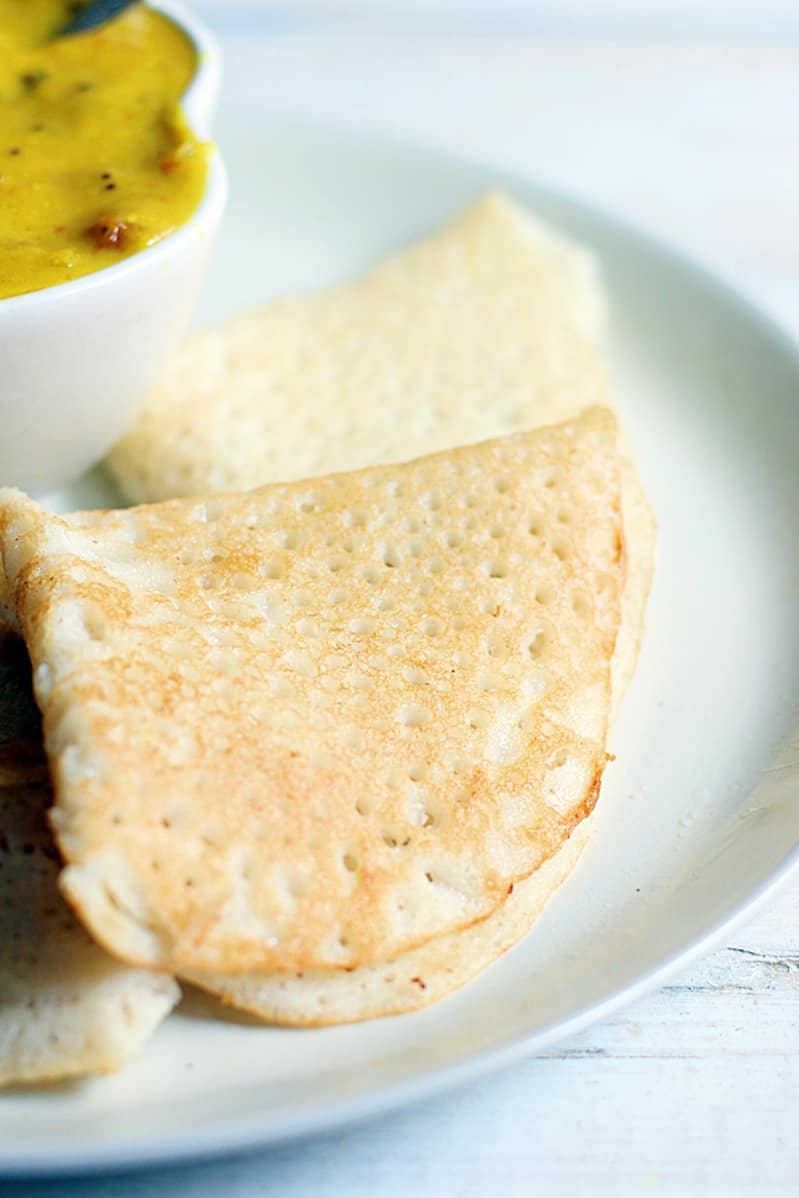dosa: (1, 404, 660, 1106)
